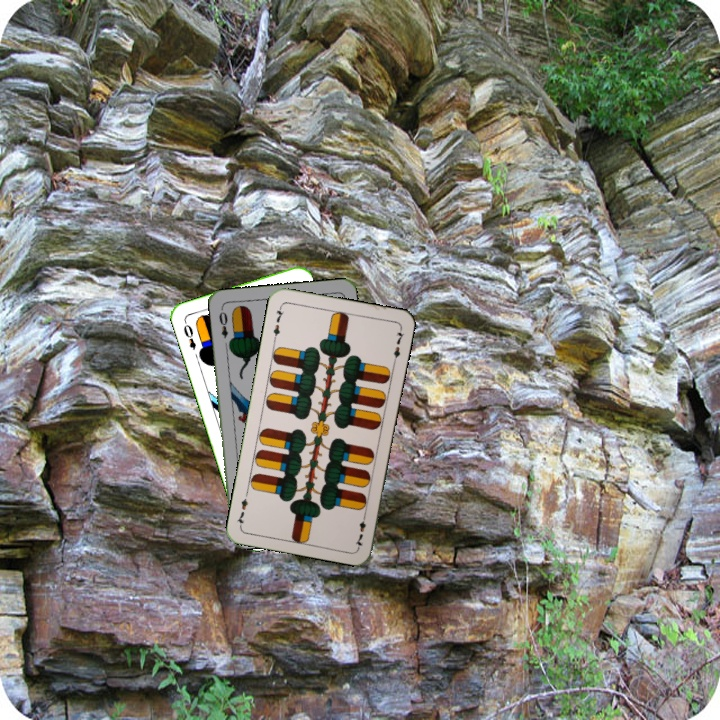E7: (269, 302, 287, 342), (351, 509, 368, 550)
EO: (179, 317, 199, 353), (215, 308, 230, 340)
